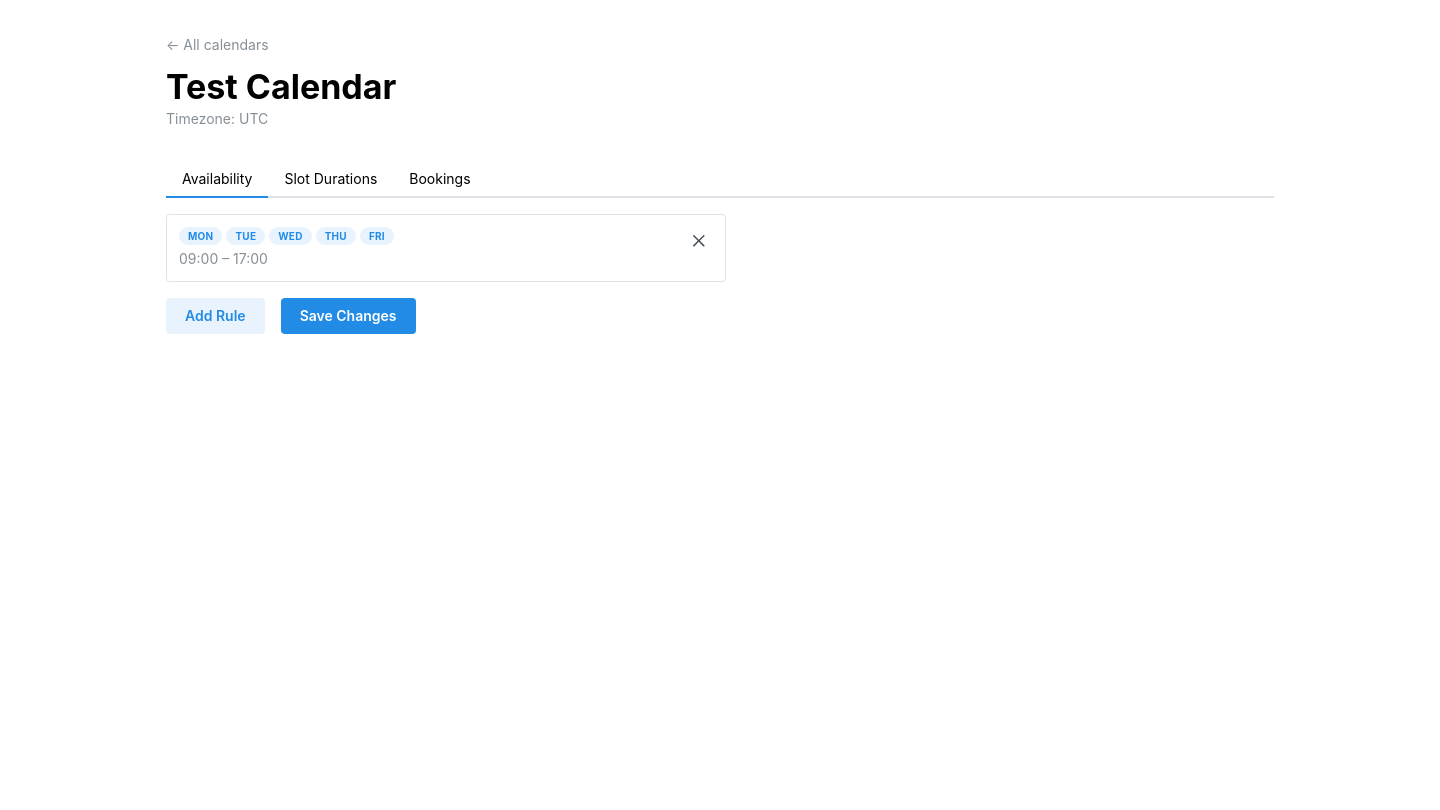
Test: ManagePage › Bookings tab › shows success notification after cancelling a booking
This screenshot has width=1440, height=810.
Expected: the heading "Test Calendar" is shown, [166,66,396,107]
Click the tab "Bookings": coordinates (440, 180) [393,162,487,198]
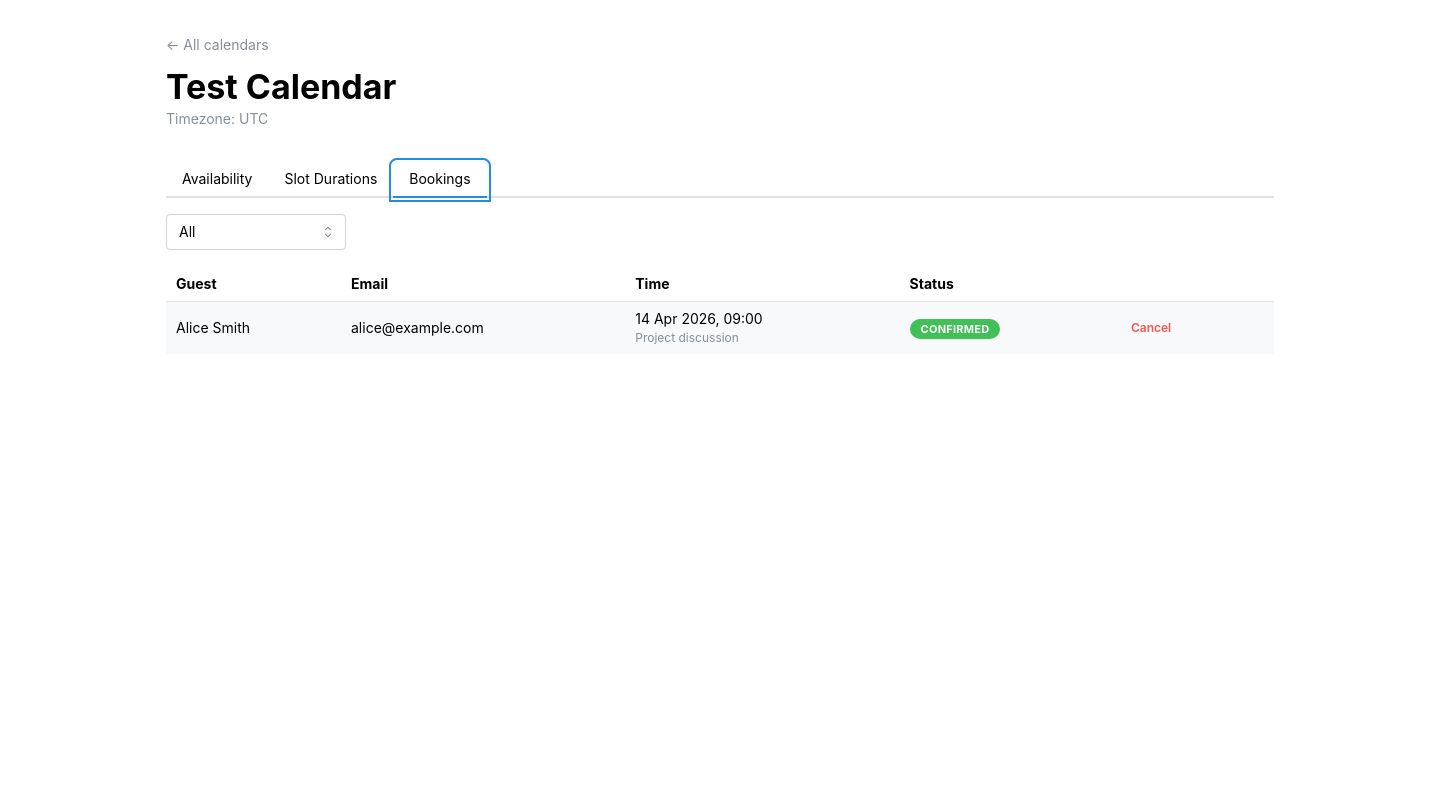
Expected: the text "Alice Smith" is shown, [166,302,341,354]
Click the button "Cancel": coordinates (1151, 328) [1116,313,1186,343]
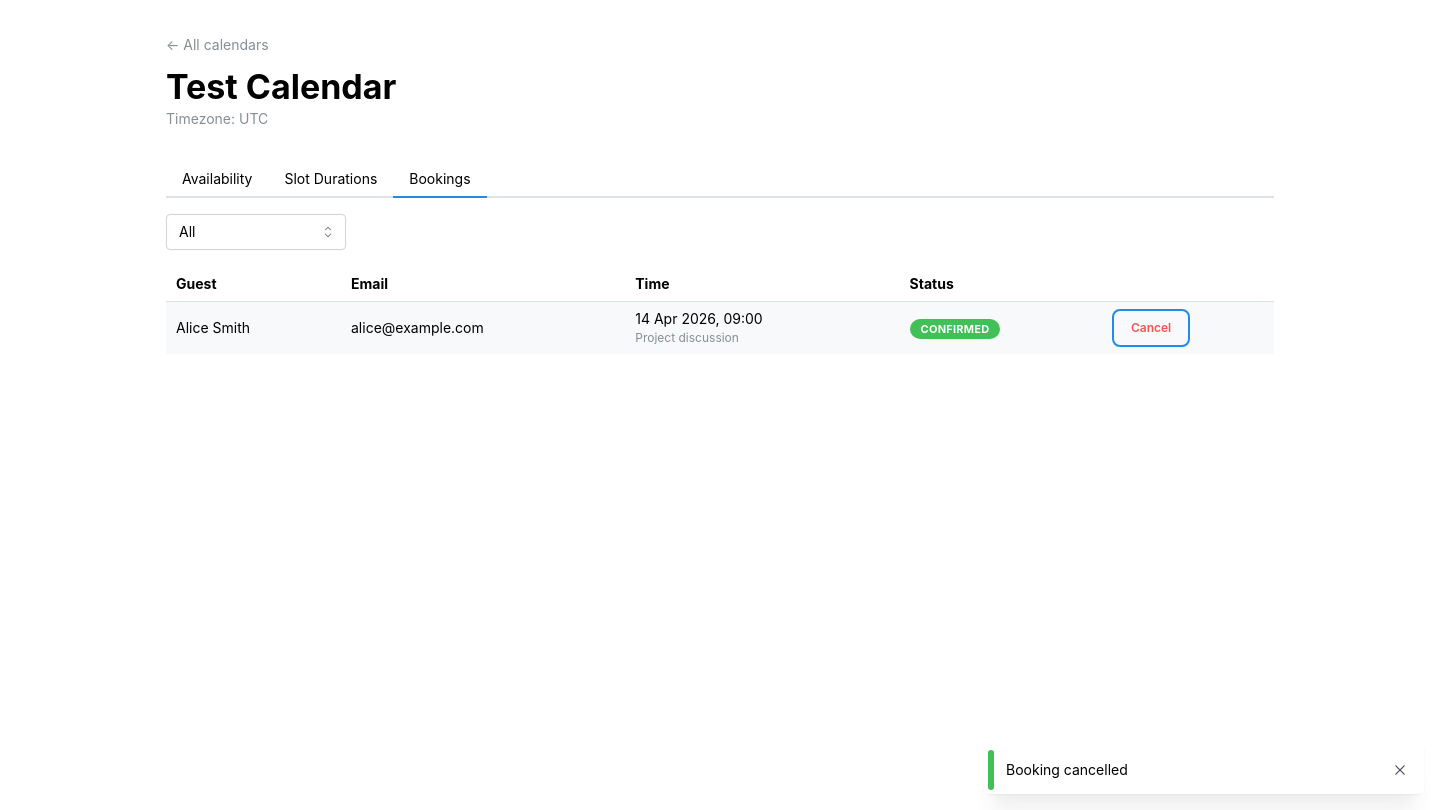
Expected: the text "Booking cancelled" is shown, [1006,761,1128,778]
